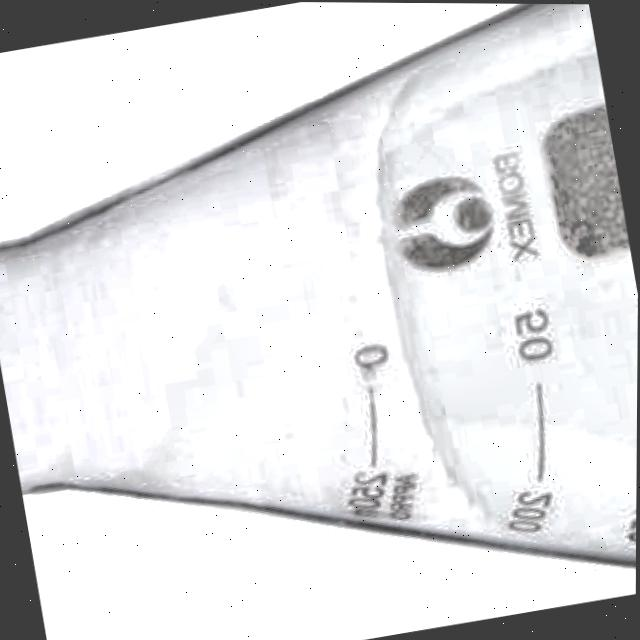glass: (0, 3, 638, 564)
